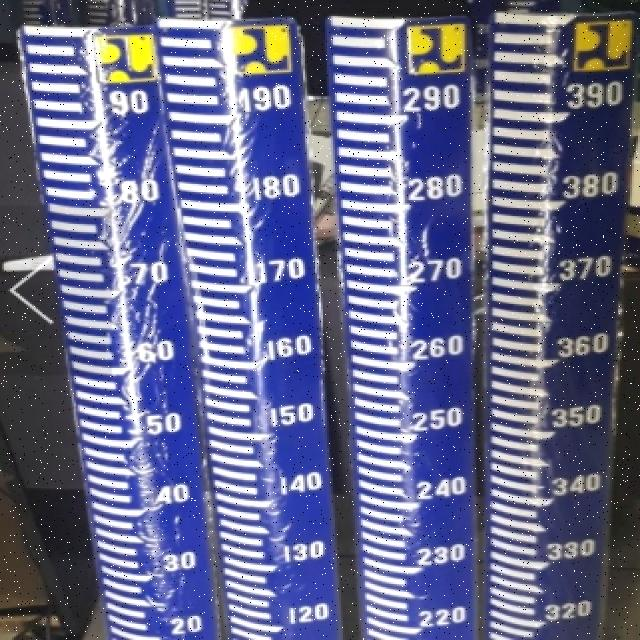20: (166, 607, 207, 635)
30: (163, 546, 200, 574)
40: (156, 481, 192, 507)
50: (145, 409, 184, 437)
60: (136, 335, 175, 367)
70: (130, 258, 172, 288)
80: (118, 174, 162, 205)
90: (108, 88, 152, 118)
staff: (149, 17, 330, 640), (319, 8, 488, 640), (477, 0, 635, 626), (10, 24, 164, 639)
